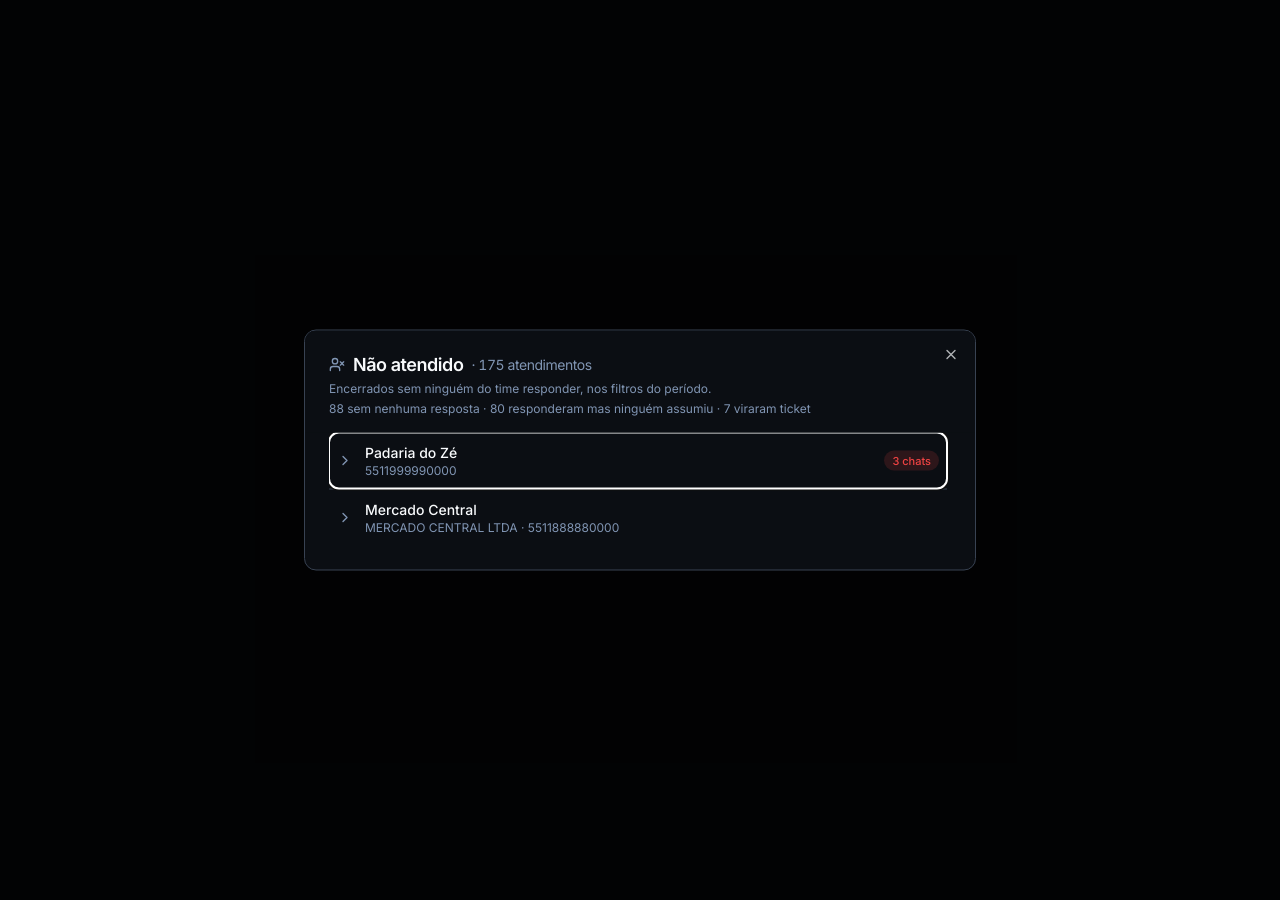
it: NaoAtendidosDialog › marca cada chat com o motivo — o que separa o vácuo do resto
The width and height of the screenshot is (1280, 900).
Click the button "Padaria do Zé 5511999990000 3 chats" at (411, 452), box [329,432,947,488]
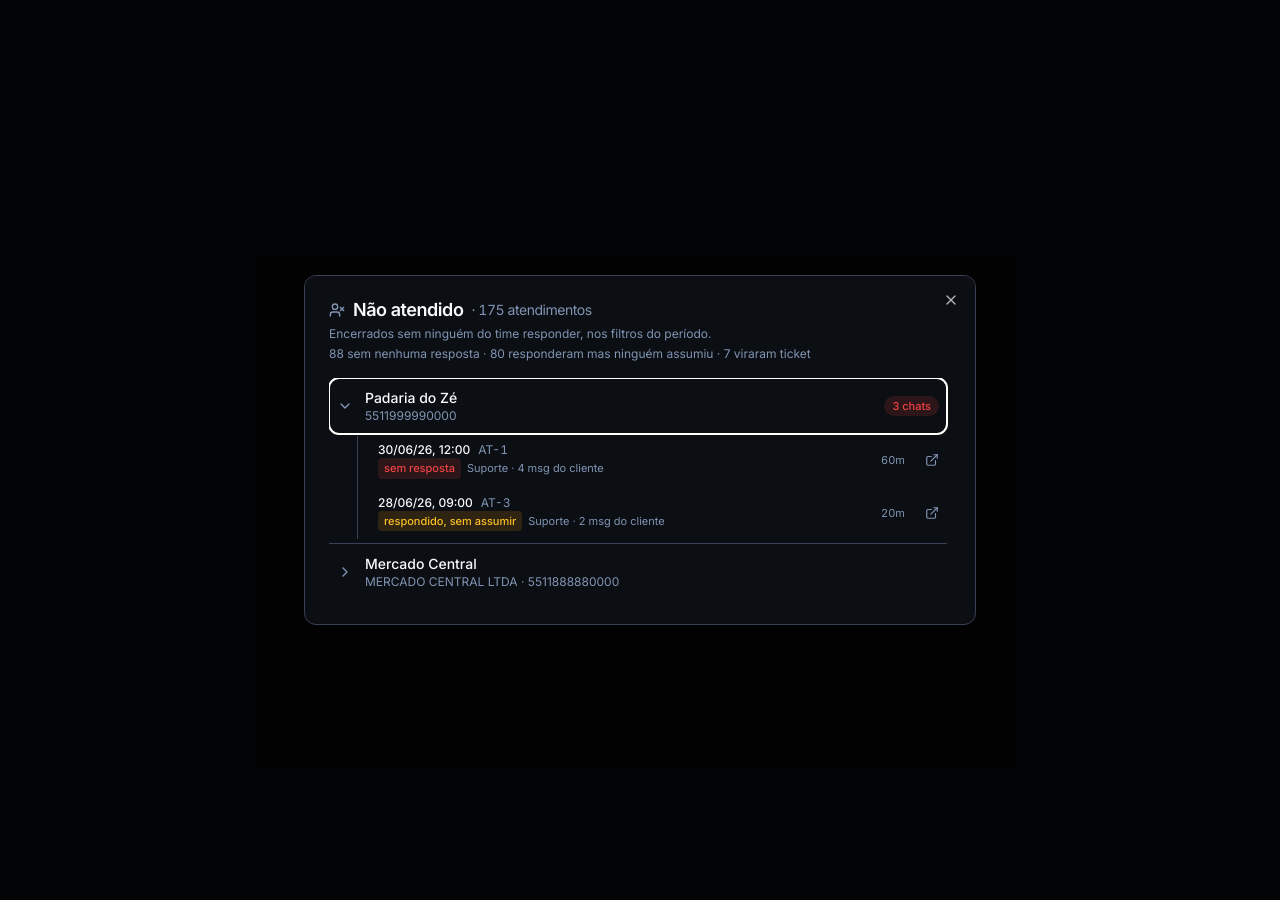
Check: the text "sem resposta" is shown, box [378,458,461,478]
Check: the text "respondido, sem assumir" is shown, box [378,510,522,531]
Click the button "Mercado Central MERCADO CENTRAL LTDA · 5511888880000" at (421, 564), box [329,544,947,600]
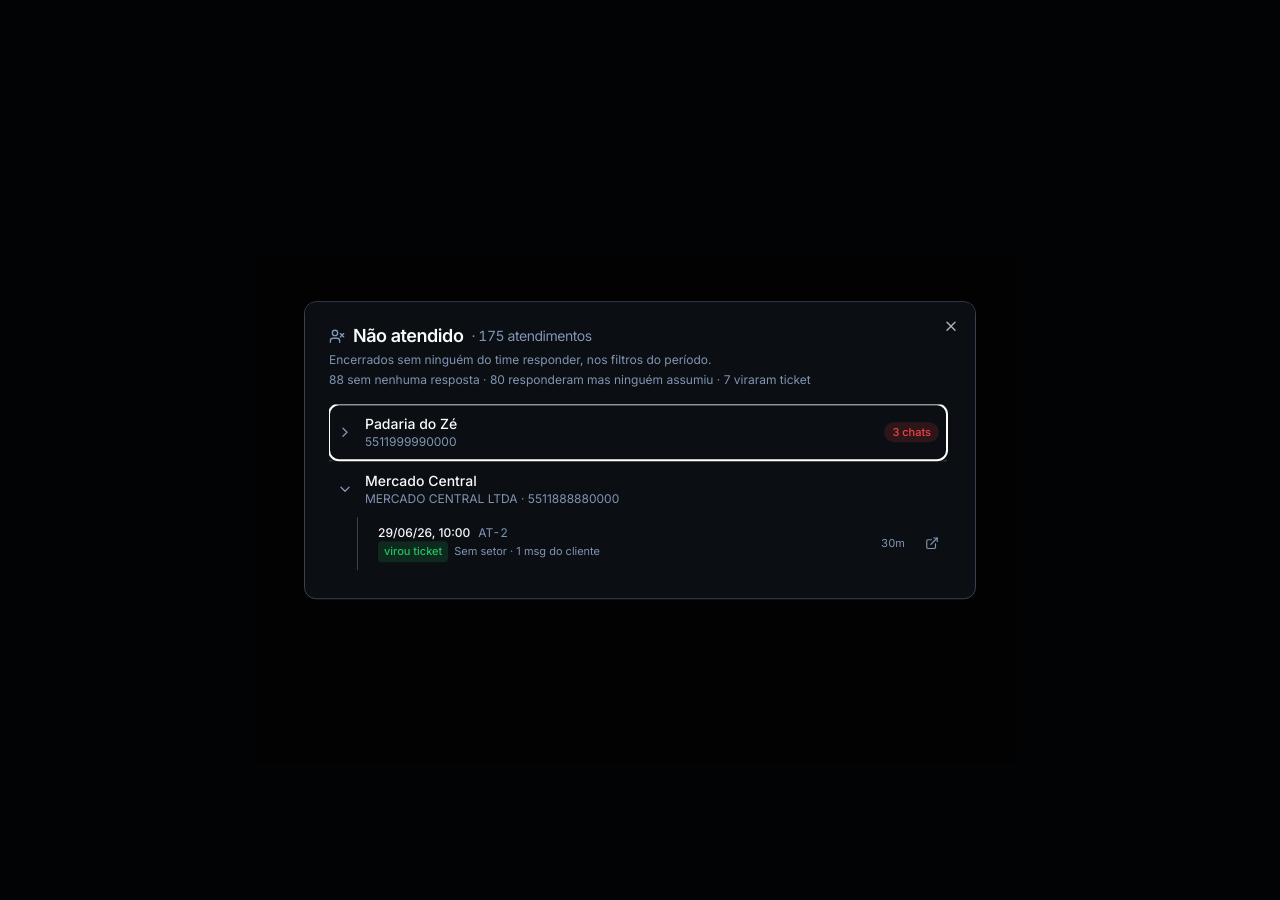
Check: the text "virou ticket" is shown, box [378,541,448,562]
